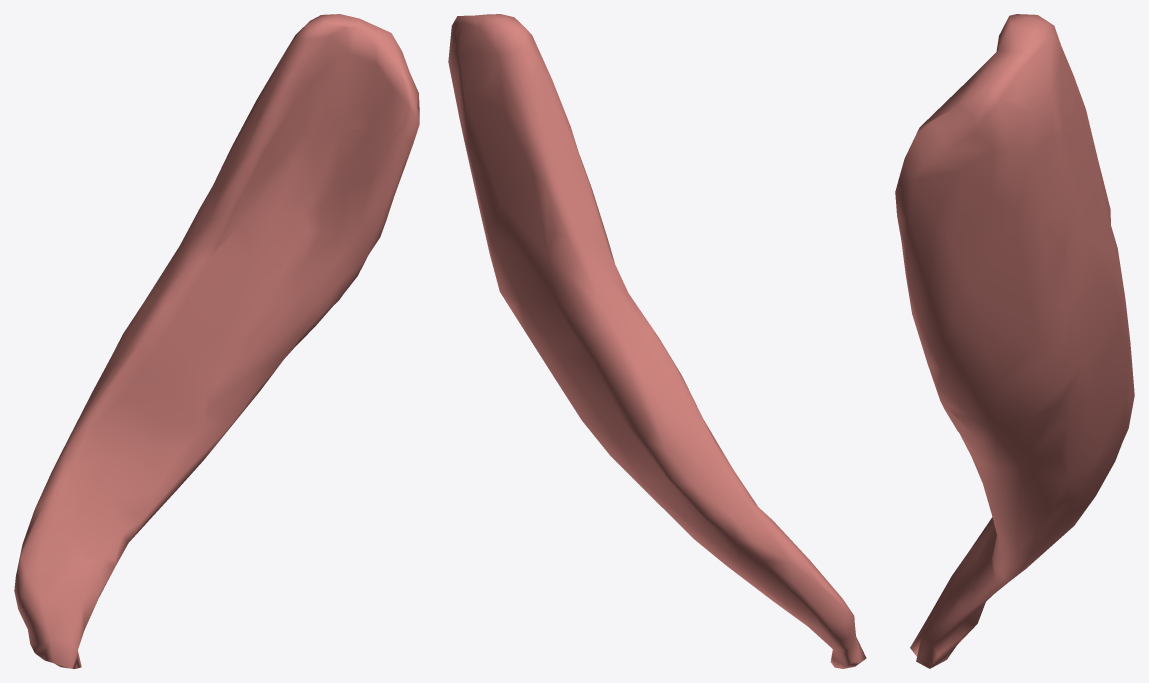
File: fma81552_mm1332.glb
The picture shows the model from 3 angles, left to right: view 1: azimuth 30°, elevation 25°; view 2: azimuth 150°, elevation 25°; view 3: azimuth 270°, elevation 25°; orthographic projection. The views are drawn at different scales.
Visible parts, largest first — view 1: FMA81552_MM1332; view 2: FMA81552_MM1332; view 3: FMA81552_MM1332.
Boxes of the visible parts, x1=… form: FMA81552_MM1332: x1=14, y1=14, x2=419, y2=668; FMA81552_MM1332: x1=448, y1=14, x2=866, y2=668; FMA81552_MM1332: x1=895, y1=14, x2=1134, y2=668.
Size of the model in its own units: 0.0159 by 0.0225 by 0.0057.
